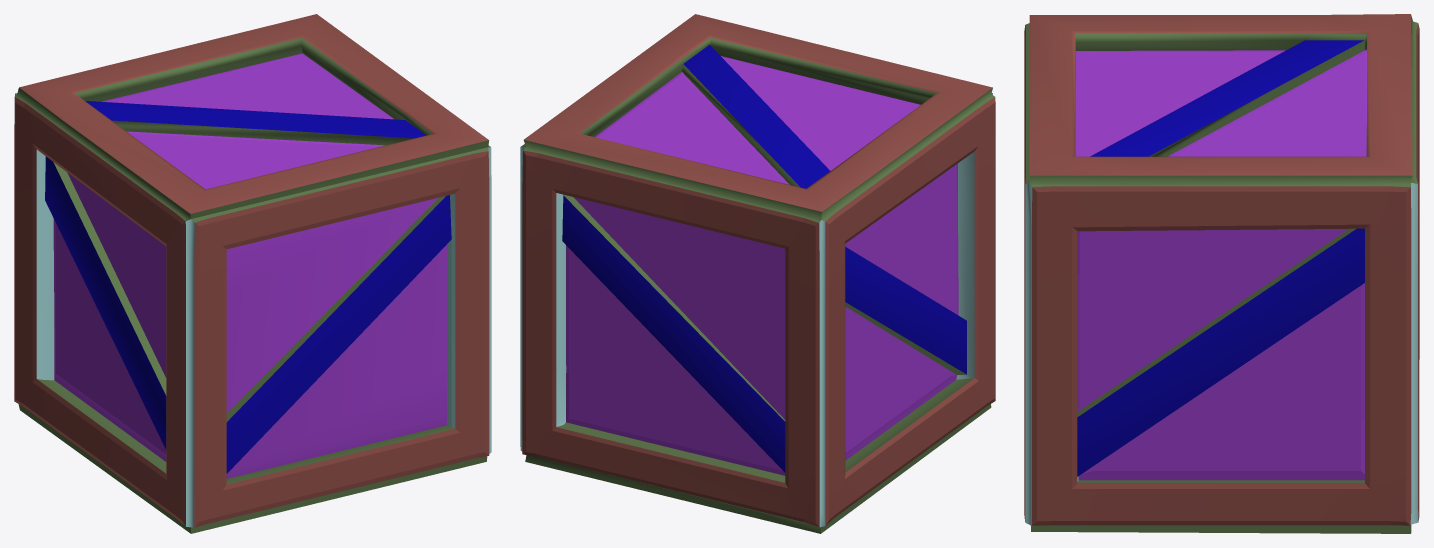
The model's file is cajafixed.fbx.
3 views of the same model, side by side, from view 1: azimuth 30°, elevation 25°; view 2: azimuth 150°, elevation 25°; view 3: azimuth 270°, elevation 25° (orthographic). The views are drawn at different scales.
Parts seen in each view (by area): view 1: Box001; view 2: Box001; view 3: Box001.
Part boxes in pixels (<box>): Box001: <box>14,14,491,533</box>; Box001: <box>520,14,995,533</box>; Box001: <box>1024,14,1419,533</box>.
Bounding box in the file's own units: 59 × 59.4 × 58.9.
